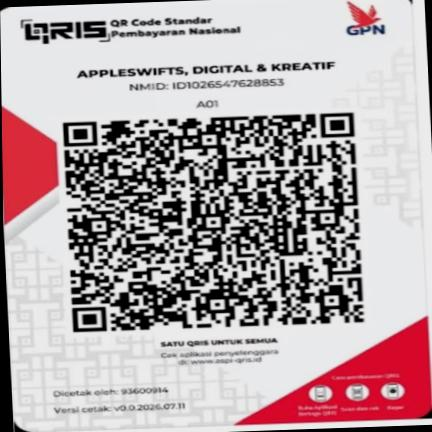Qris-Positioning: (0, 0, 431, 429)
